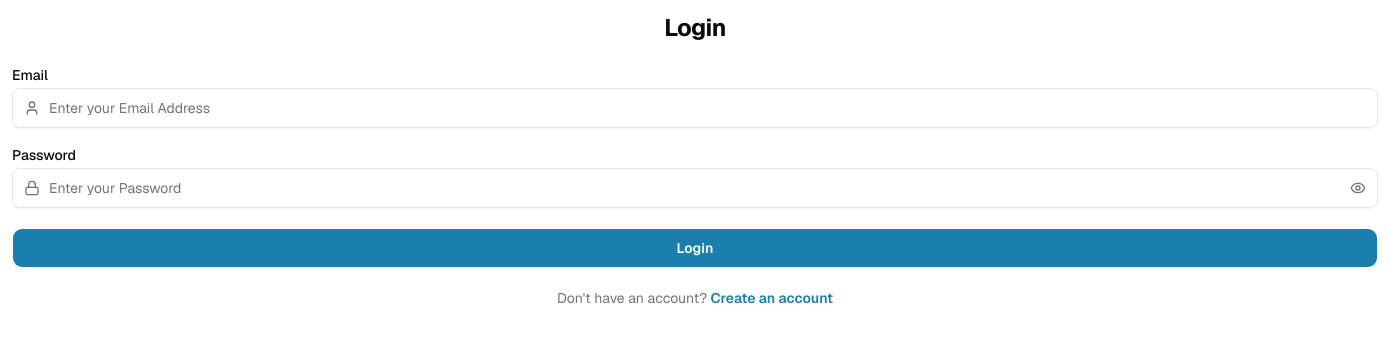
LoginForm › should show invalid email error
Type "not-an-email" into the field labelled "Email" at (695, 108), box [12,88,1378,128]
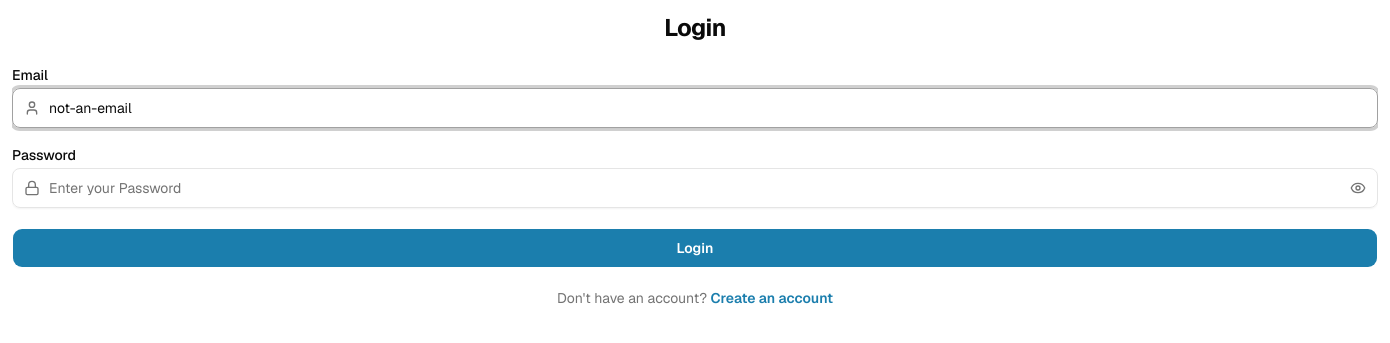
Type "password" into the password field labelled "Password" at (695, 188), box [12,168,1378,208]
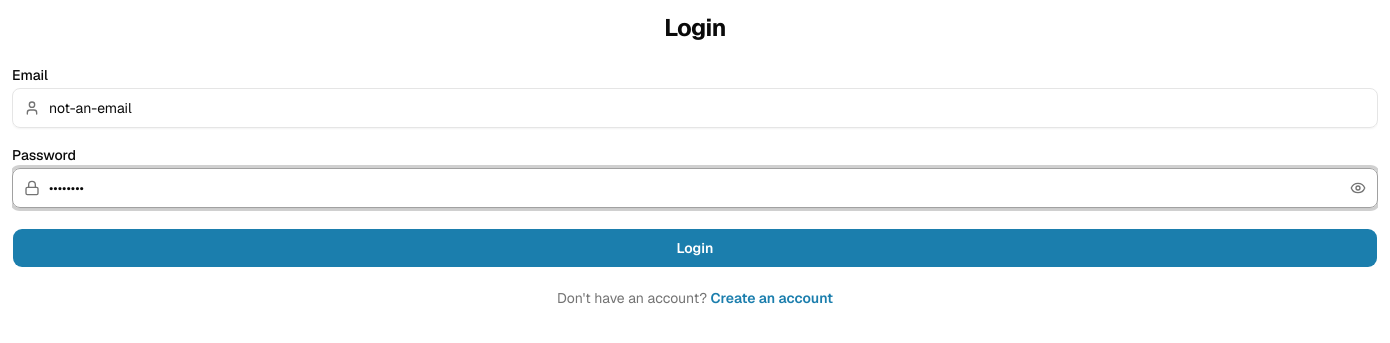
Click the button "Login" at (695, 248), box [12,228,1378,268]
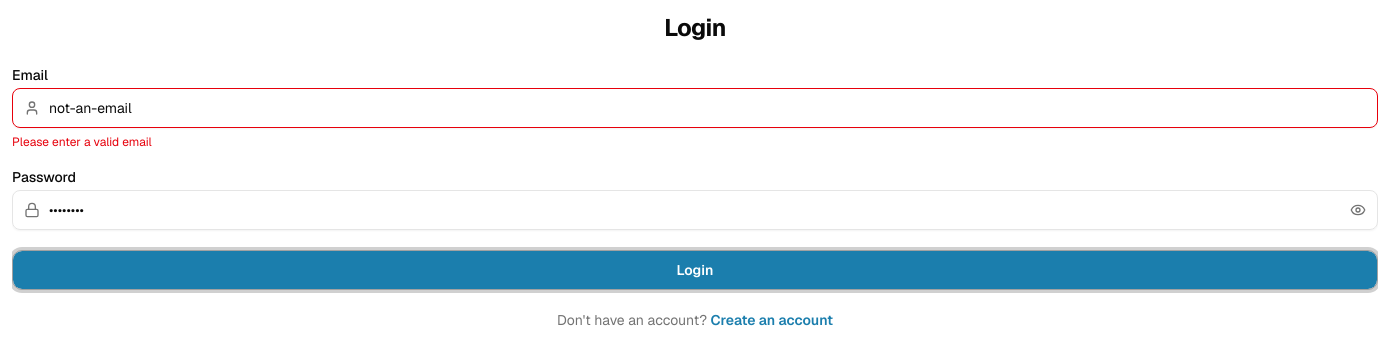
Expected: the text "Please enter a valid email" is shown, [12,134,152,150]
